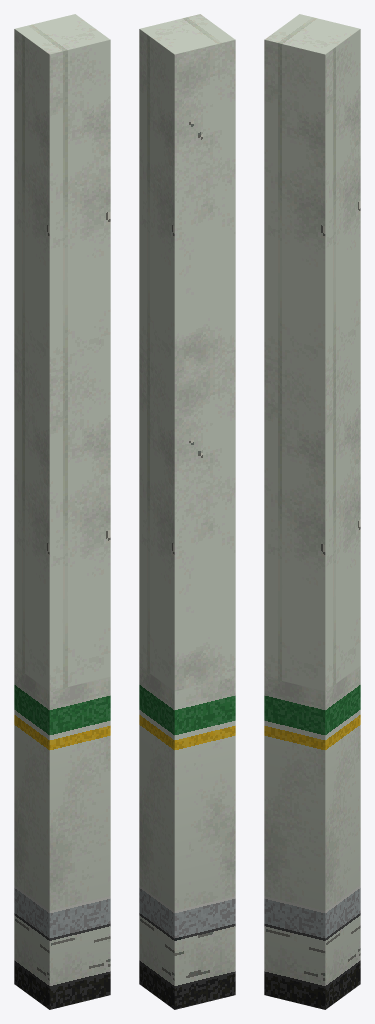
File: wall_post_market.glb
The picture shows the model from 3 angles, left to right: view 1: azimuth 30°, elevation 25°; view 2: azimuth 210°, elevation 25°; view 3: azimuth 330°, elevation 25°; orthographic projection.
Visible parts, largest first — view 1: wall_post_market; view 2: wall_post_market; view 3: wall_post_market.
Boxes of the visible parts, box(x1,y1,x2,y2) form: wall_post_market: box(14, 14, 110, 1009); wall_post_market: box(139, 14, 235, 1009); wall_post_market: box(264, 14, 360, 1009).
Bounding box in the file's own units: 0.2 × 3 × 0.2.
1 material, 1 textured.
